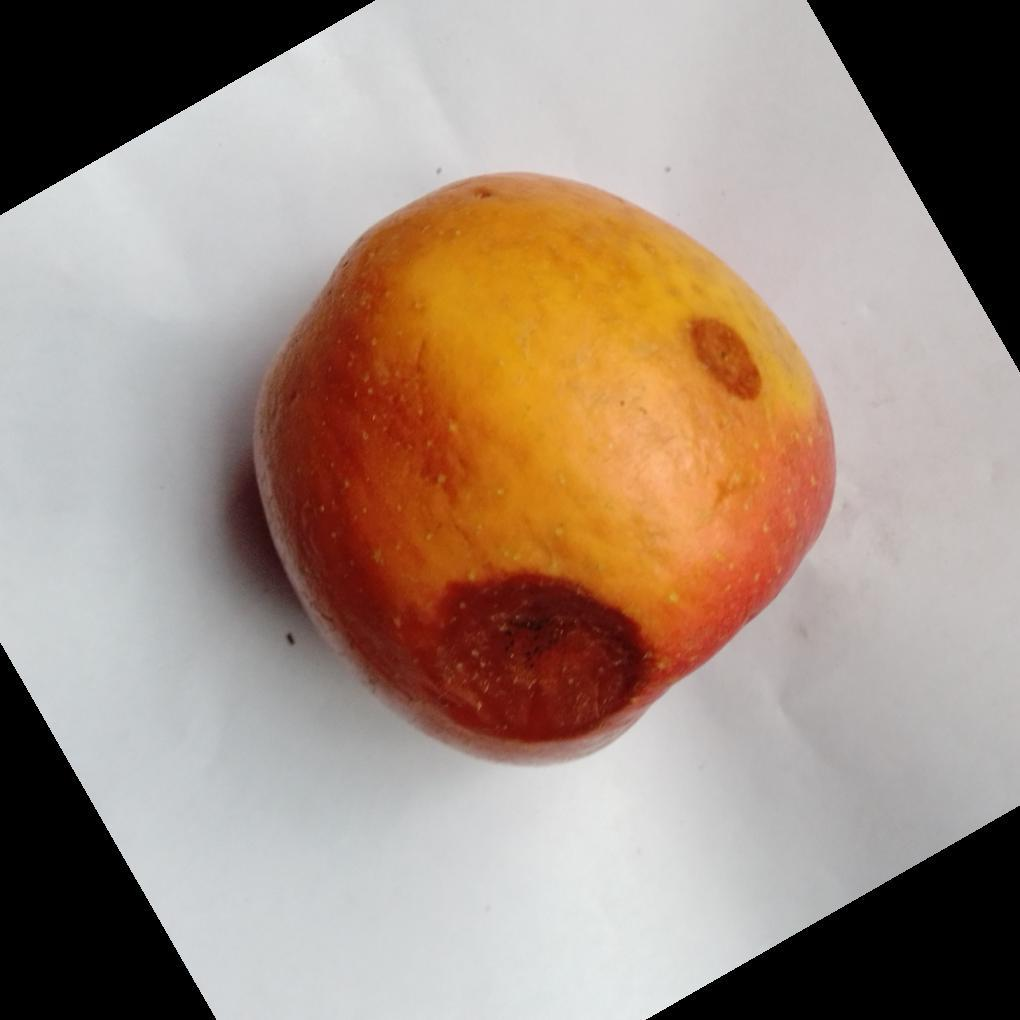FreshOrange: (250, 173, 837, 770)
